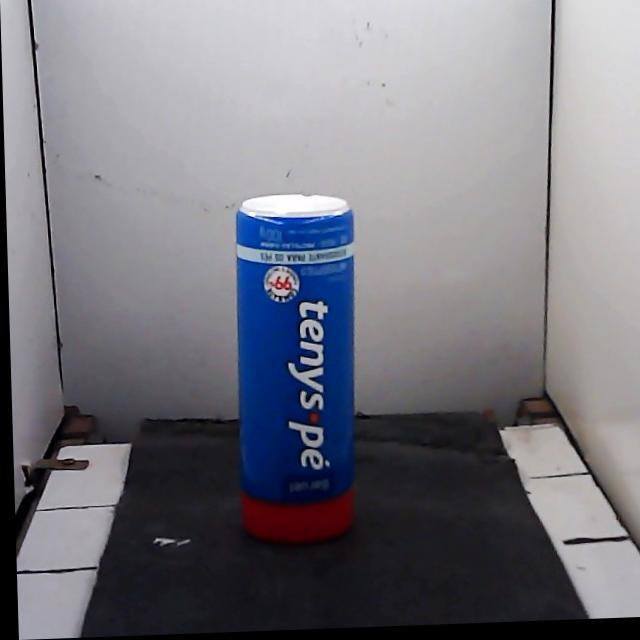plastico: (237, 194, 353, 542)
